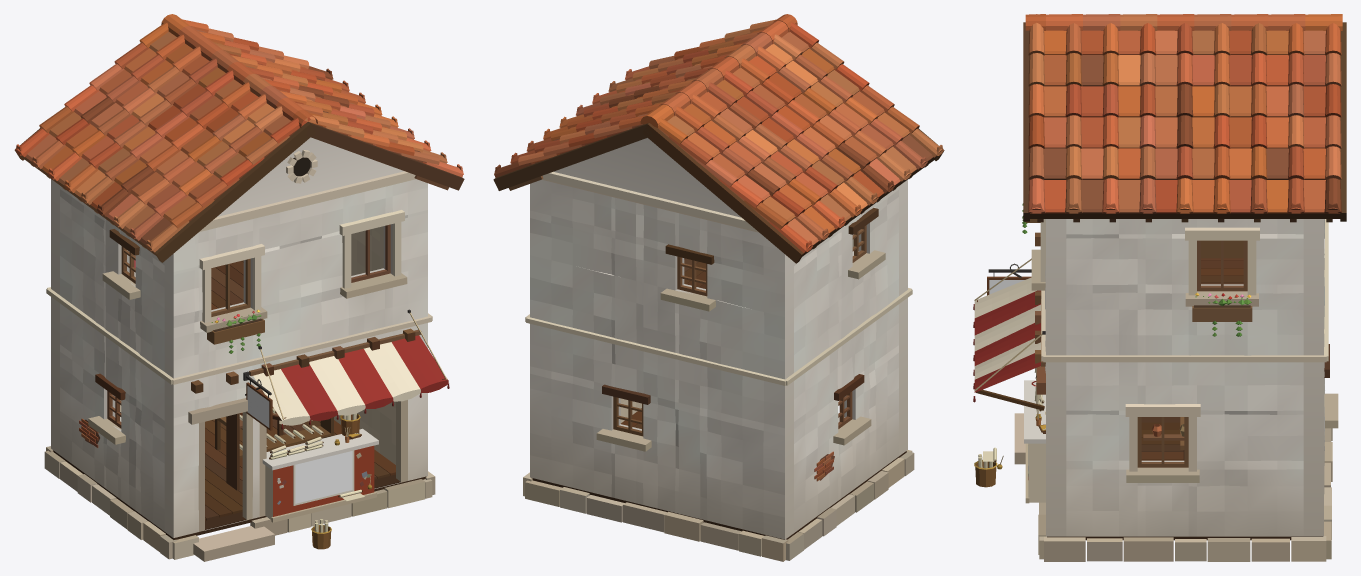
File: shop_scriptorium.glb
3 views of the same model, side by side, from view 1: azimuth 30°, elevation 25°; view 2: azimuth 150°, elevation 25°; view 3: azimuth 270°, elevation 25° (orthographic). The views are drawn at different scales.
Visible parts, largest first — view 1: House, Walls, Rooms; view 2: Walls, House, Rooms; view 3: House, Walls, Rooms.
Part boxes in pixels (left/top/right/bottom): House: left=14, top=14, right=464, bottom=561; Walls: left=51, top=137, right=427, bottom=537; Rooms: left=120, top=226, right=395, bottom=520; Walls: left=530, top=138, right=907, bottom=539; House: left=493, top=14, right=944, bottom=561; Rooms: left=620, top=235, right=853, bottom=428; House: left=973, top=14, right=1346, bottom=561; Walls: left=1045, top=219, right=1324, bottom=536; Rooms: left=1141, top=240, right=1243, bottom=460.
Bounding box in the file's own units: 4.44 × 5.63 × 4.03.
Materials: 7 (7 with a texture image).
